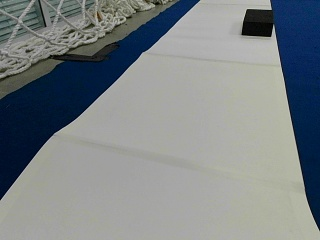block: (241, 9, 273, 36)
